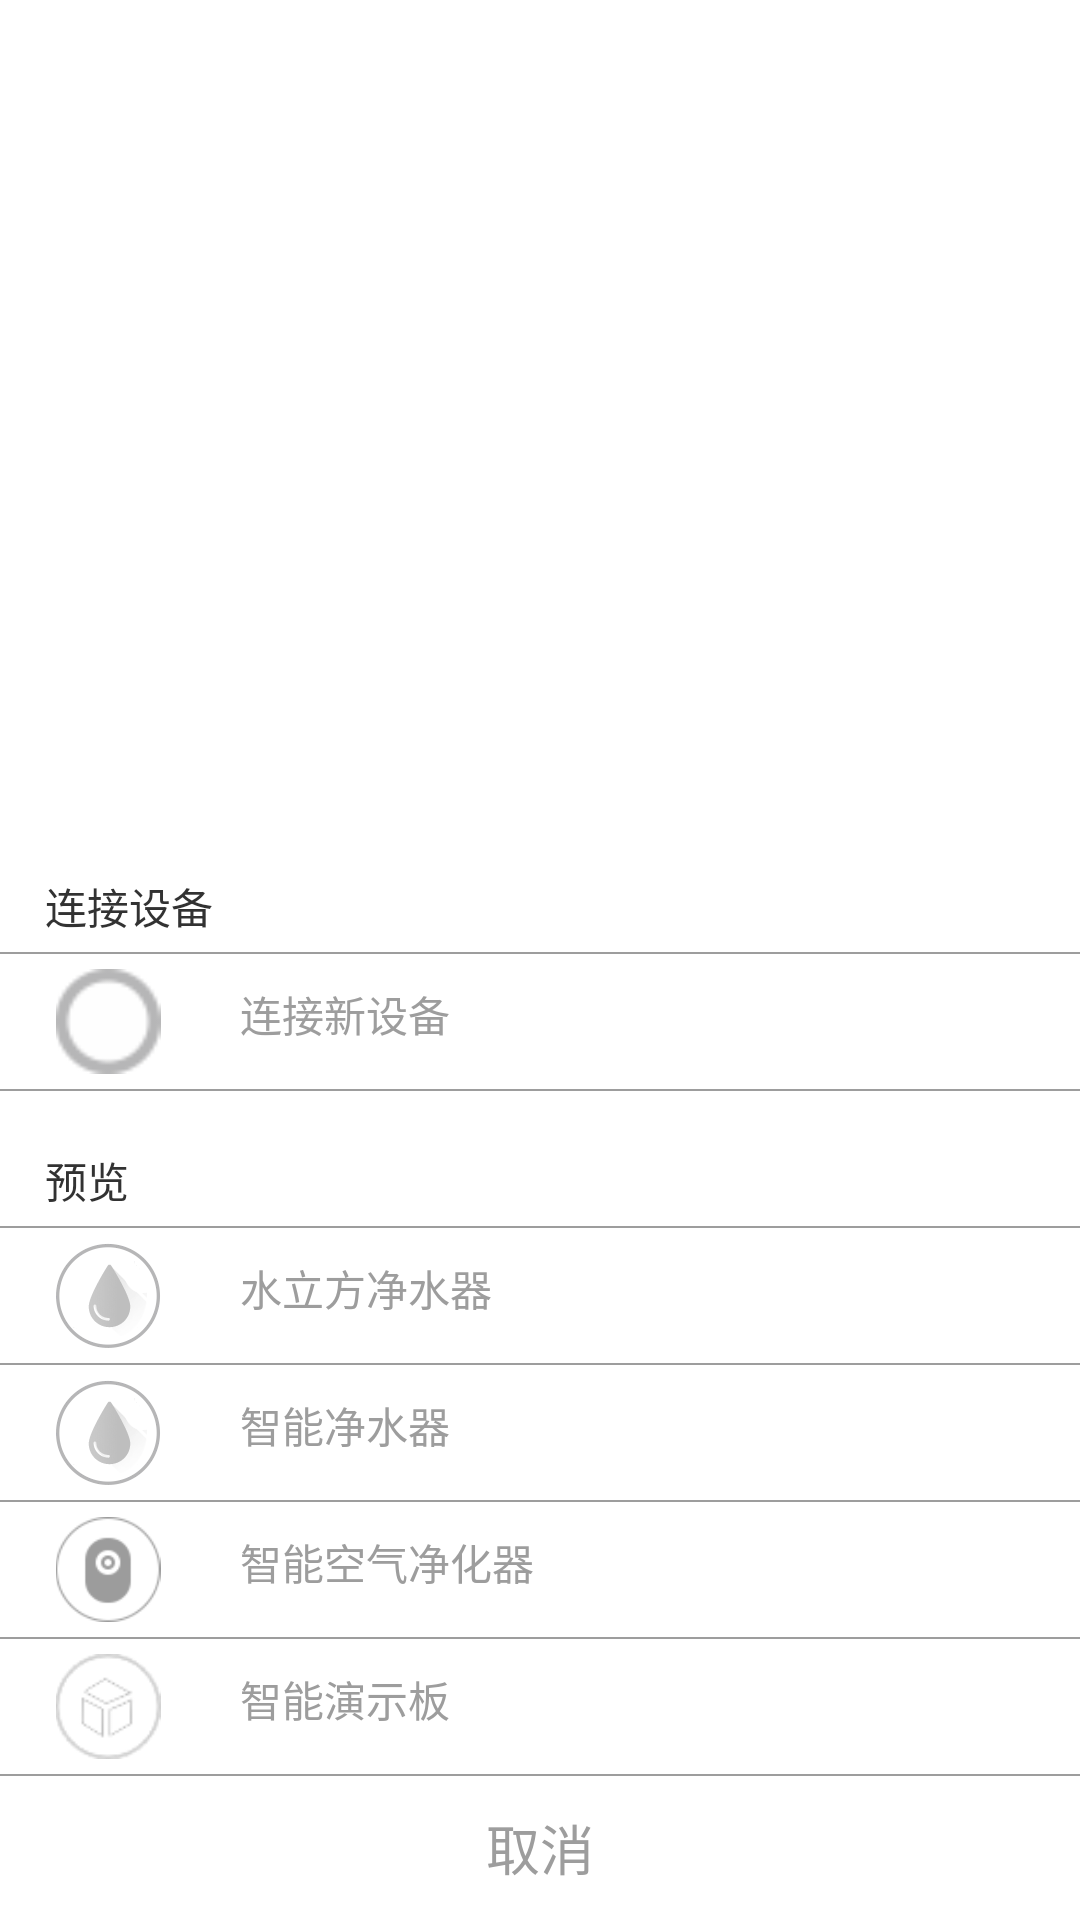

Named icons in this screenshot (1080*1920) and their centers, [x,y]:
shexiang: [108,1569]
water burfer false: [108,1296], [108,1433]
